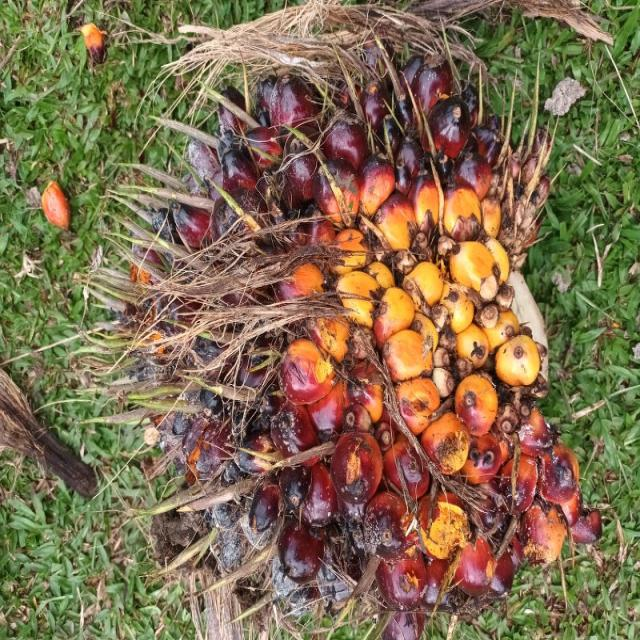fraksi 1: (30, 51, 462, 640)
